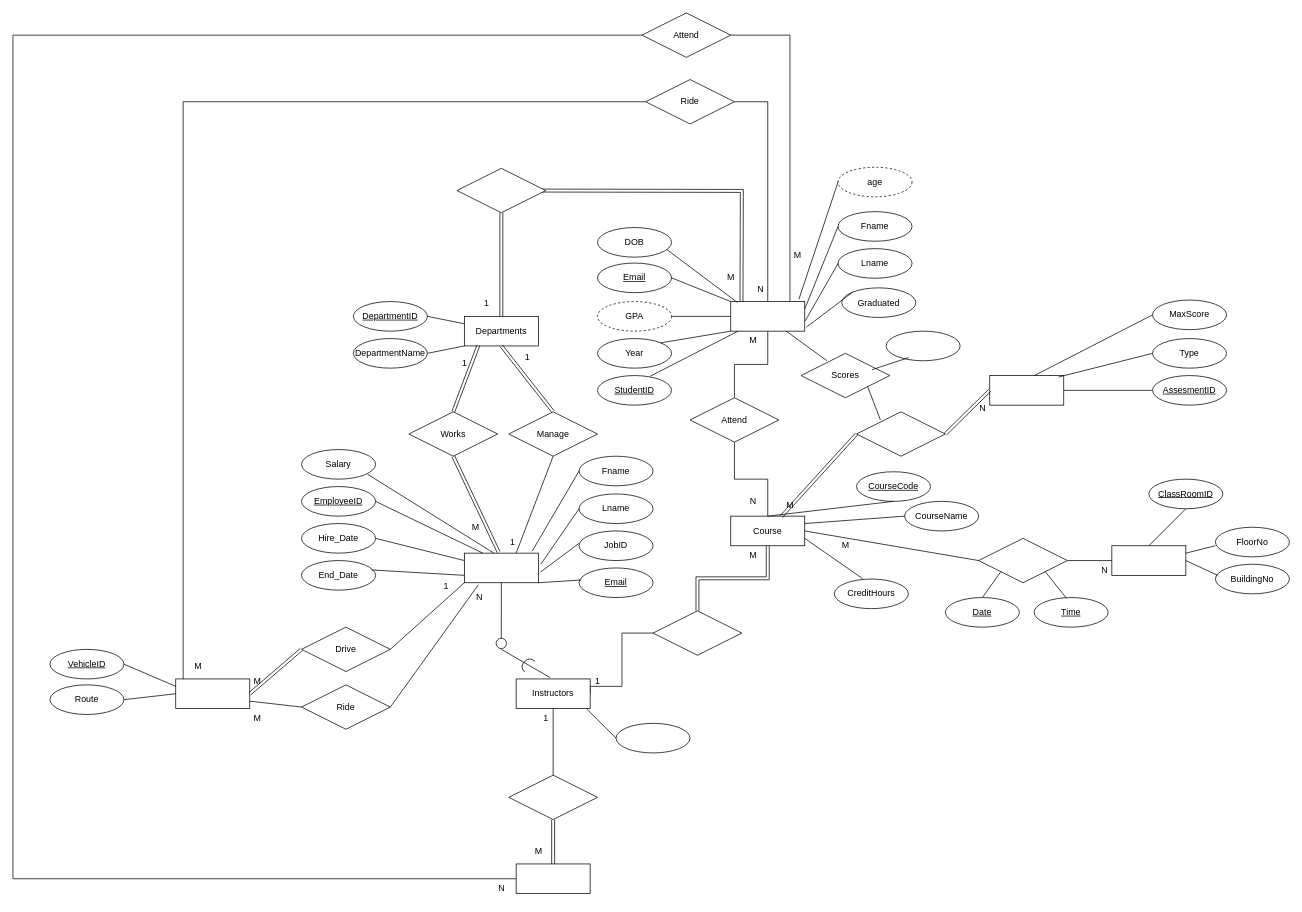
Image size: 1302x912. Some labels were removed from this diagram. Here are the shapes that lost their labels. From the top down, the centre of each, then its label:
(501,190): Enrolled
(767,316): Student
(922,345): Grade
(1026,390): Assesments
(900,433): Contain
(501,567): Employees
(1022,560): Occurs
(1148,560): ClassRoom
(697,632): Teach
(212,693): Transporation
(652,738): Qualification
(553,797): Organize
(552,878): Events
